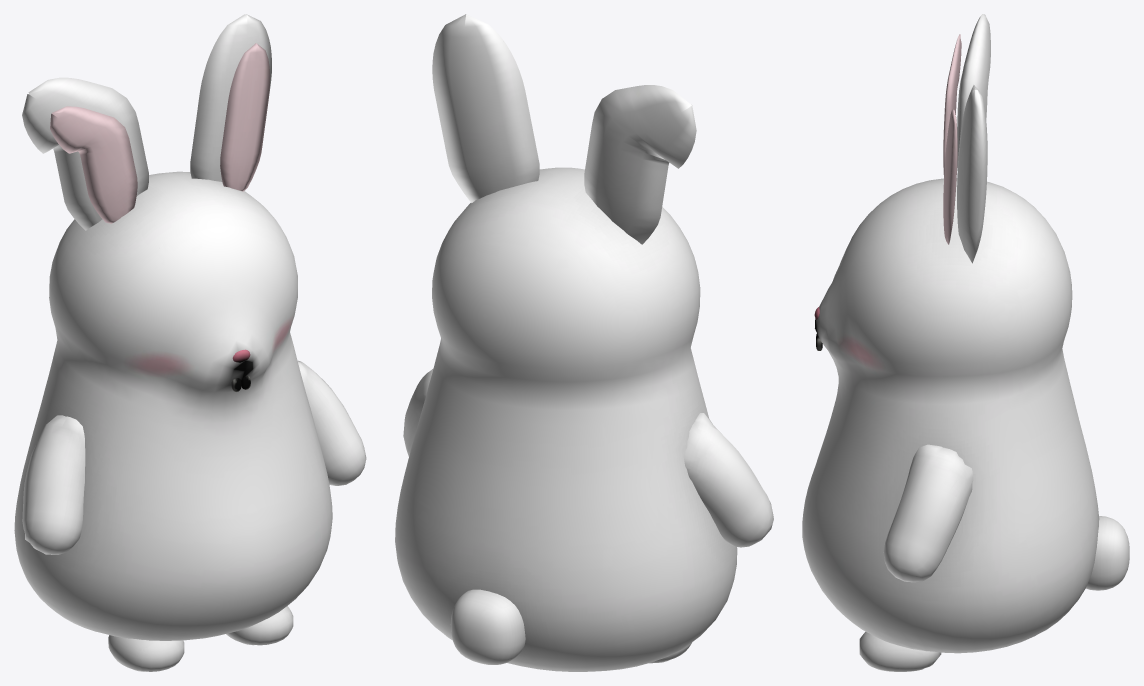
Rendered from conejito.glb.
3 renders of one model, left to right at view 1: azimuth 30°, elevation 25°; view 2: azimuth 150°, elevation 25°; view 3: azimuth 270°, elevation 25°, orthographic. The views are drawn at different scales.
Visible parts, largest first — view 1: cuerpo, orejaI, orejaD, brazoI, brazoD; view 2: cuerpo, orejaD, orejaI, brazoI, brazoD; view 3: cuerpo, brazoD, orejaD, orejaI.
Boxes of the visible parts, x1,y1,x2,y2 form: cuerpo: (14,171,332,671); orejaI: (22,77,148,230); orejaD: (190,14,271,191); brazoI: (22,415,85,554); brazoD: (297,360,366,485); cuerpo: (395,167,737,671); orejaD: (432,14,539,202); orejaI: (584,85,696,244); brazoI: (683,413,773,547); brazoD: (403,368,433,456); cuerpo: (802,178,1129,671); brazoD: (883,444,973,582); orejaD: (943,85,987,263); orejaI: (943,14,990,177).
Size of the model in its own units: 1.85 by 3.08 by 1.56.
5 materials, 5 textured.
